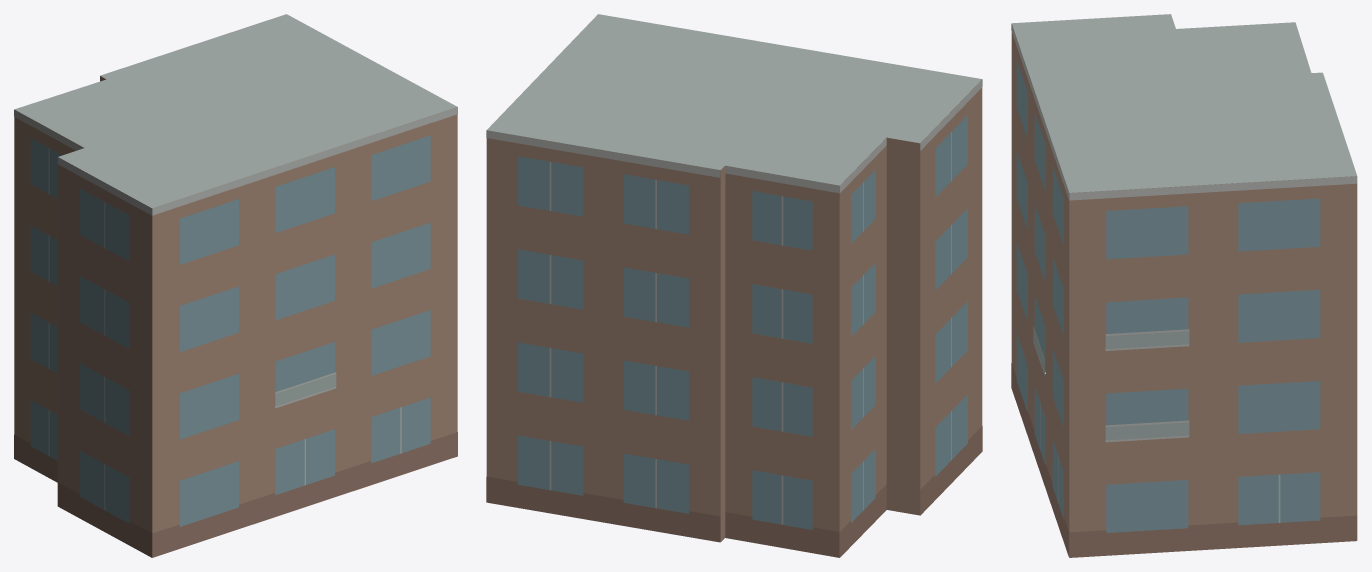
The model's file is survey-upis-32523658.glb.
3 views of the same model, side by side, from view 1: azimuth 30°, elevation 25°; view 2: azimuth 150°, elevation 25°; view 3: azimuth 270°, elevation 25° (orthographic). The views are drawn at different scales.
Visible parts, largest first — view 1: survey-upis-32523658.tmp; view 2: survey-upis-32523658.tmp; view 3: survey-upis-32523658.tmp.
Boxes of the visible parts, x1,y1,x2,y2 form: survey-upis-32523658.tmp: (14, 14, 457, 557); survey-upis-32523658.tmp: (486, 14, 982, 557); survey-upis-32523658.tmp: (1011, 14, 1357, 557).
Bounding box in the file's own units: 12.32 × 11.7 × 10.06.
